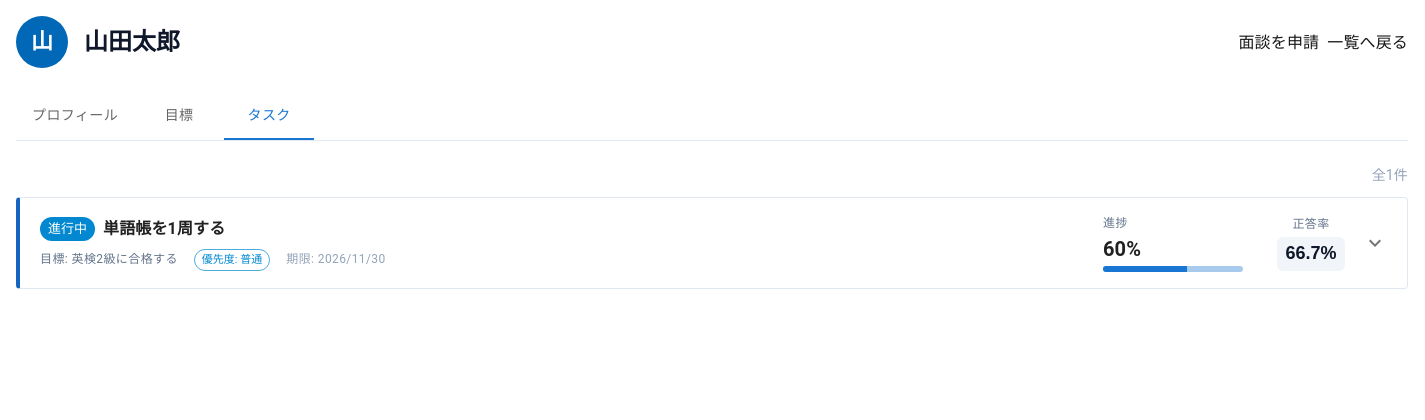
Test case: StudentDetailPresenter › タスクのUnit別の解答状況 › タスク行を展開するとUnit名・コース名・解答数/問題数・正答率が表示される
Click the heading "単語帳を1周する".
click(164, 229)  # box x1=103 y1=215 x2=225 y2=243
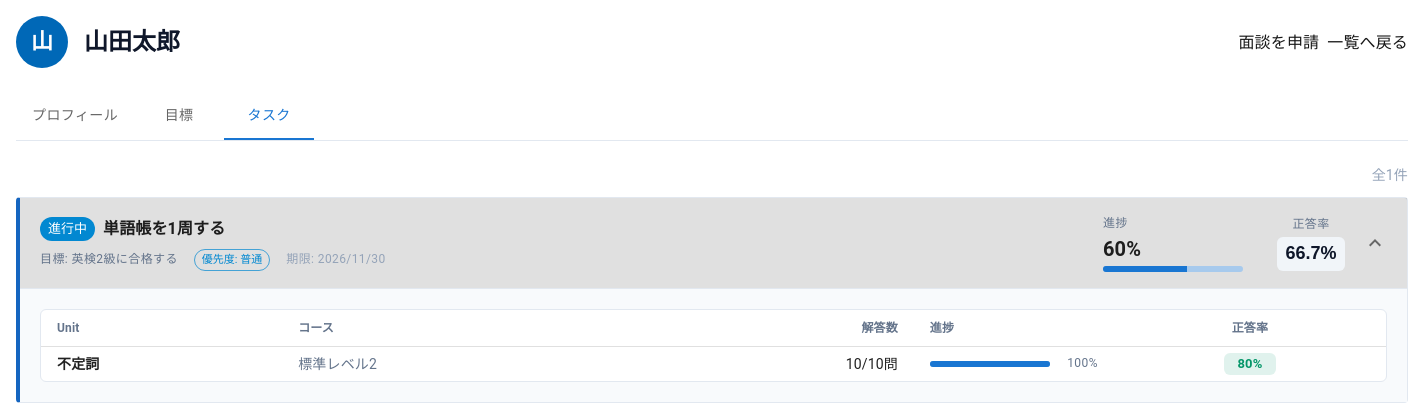
Result: the column heading "Unit" is shown at x1=41 y1=310 x2=282 y2=346
Result: the column heading "コース" is shown at x1=282 y1=310 x2=641 y2=346
Result: the column heading "解答数" is shown at x1=641 y1=310 x2=914 y2=346
